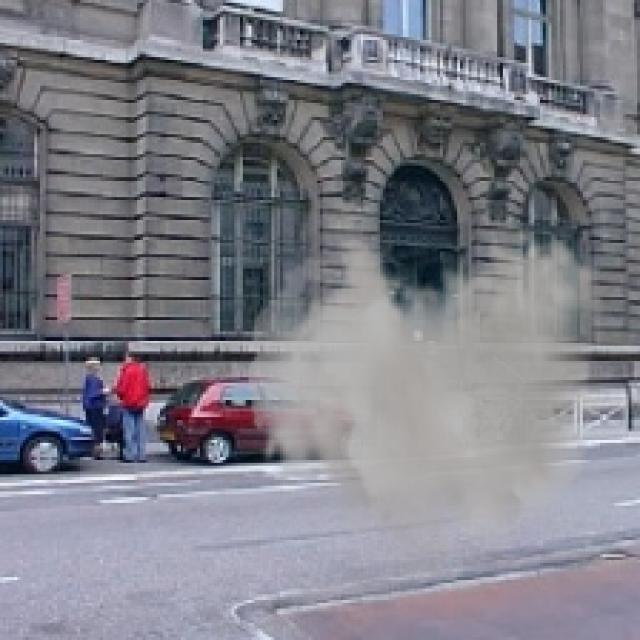smoke: (248, 226, 606, 591)
